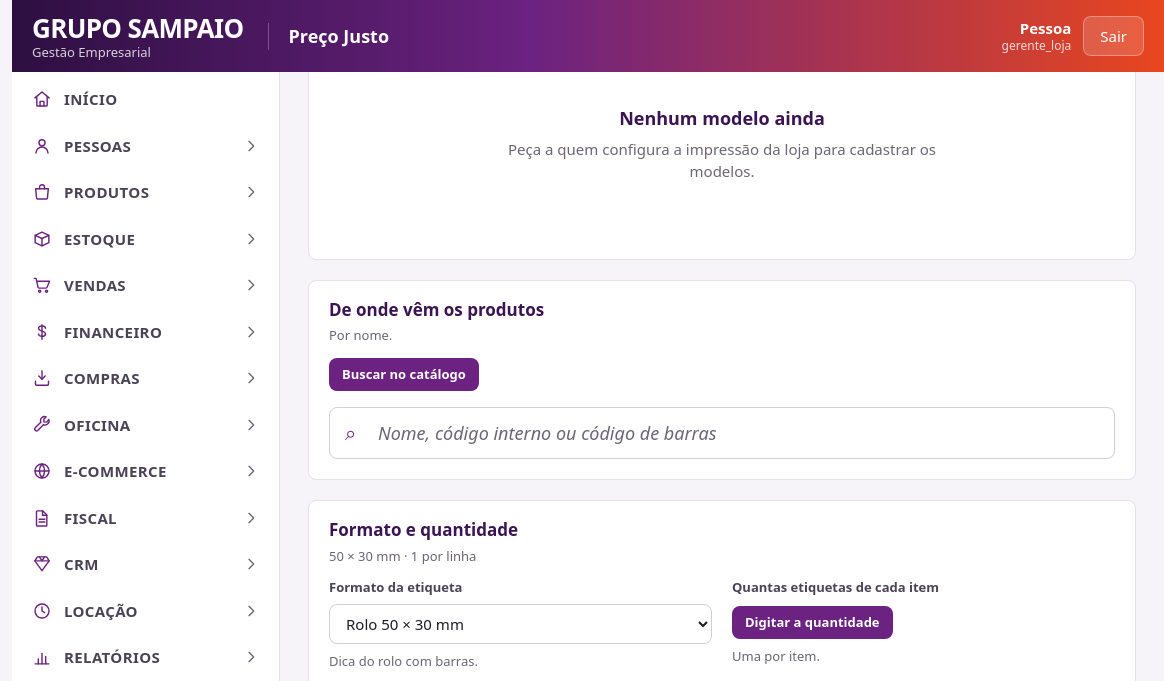
o selo do produto sem código segue a regra do servidor › quem só imprime (sem products.manage): o selo diz que sai sem barras, e não promete gerar
(page scrolled)
Check: the text "Dica do rolo com barras." is shown, box [329, 652, 478, 670]
Type "limp" into the field with placeholder "Nome, código interno ou código de barras" at (722, 433), box [329, 407, 1115, 459]
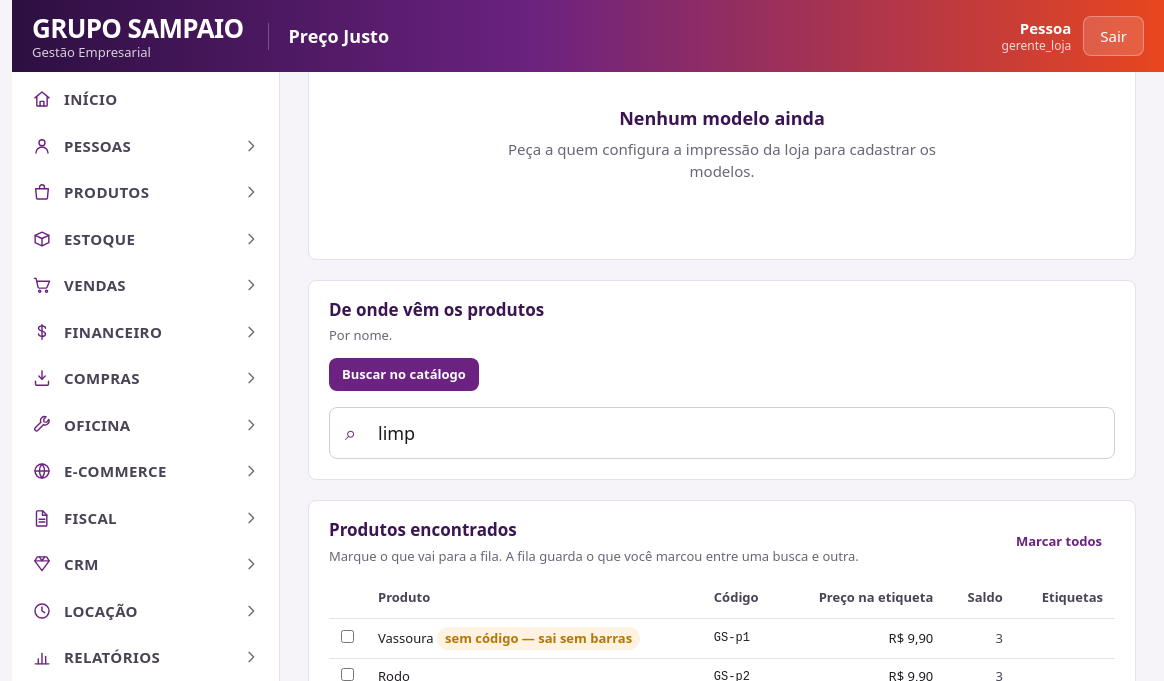
Check: the text "sem código — sai sem barras" is shown, box [437, 626, 640, 650]
